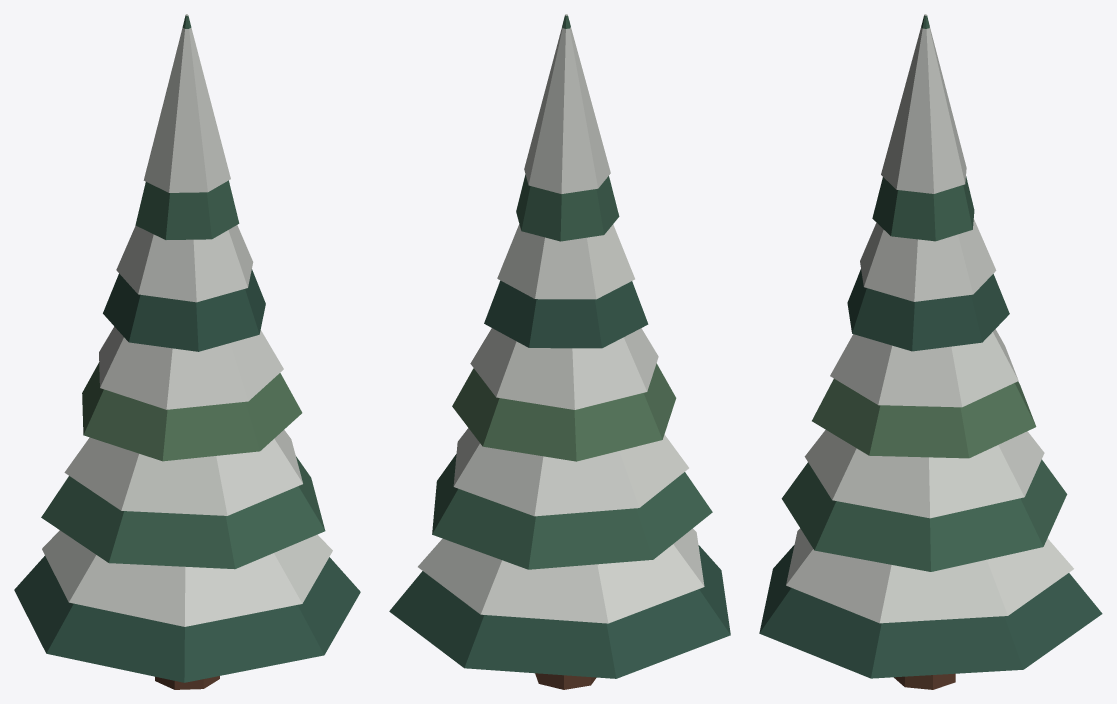
3 renders of one model, left to right at view 1: azimuth 30°, elevation 25°; view 2: azimuth 150°, elevation 25°; view 3: azimuth 270°, elevation 25°, orthographic.
Visible parts, largest first — view 1: T03_宽冠雪杉; view 2: T03_宽冠雪杉; view 3: T03_宽冠雪杉.
Boxes of the visible parts, <box> form: T03_宽冠雪杉: <box>14,14,360,689</box>; T03_宽冠雪杉: <box>389,14,730,689</box>; T03_宽冠雪杉: <box>759,14,1102,689</box>.
Bounding box in the file's own units: 1.24 × 2.62 × 1.23.
